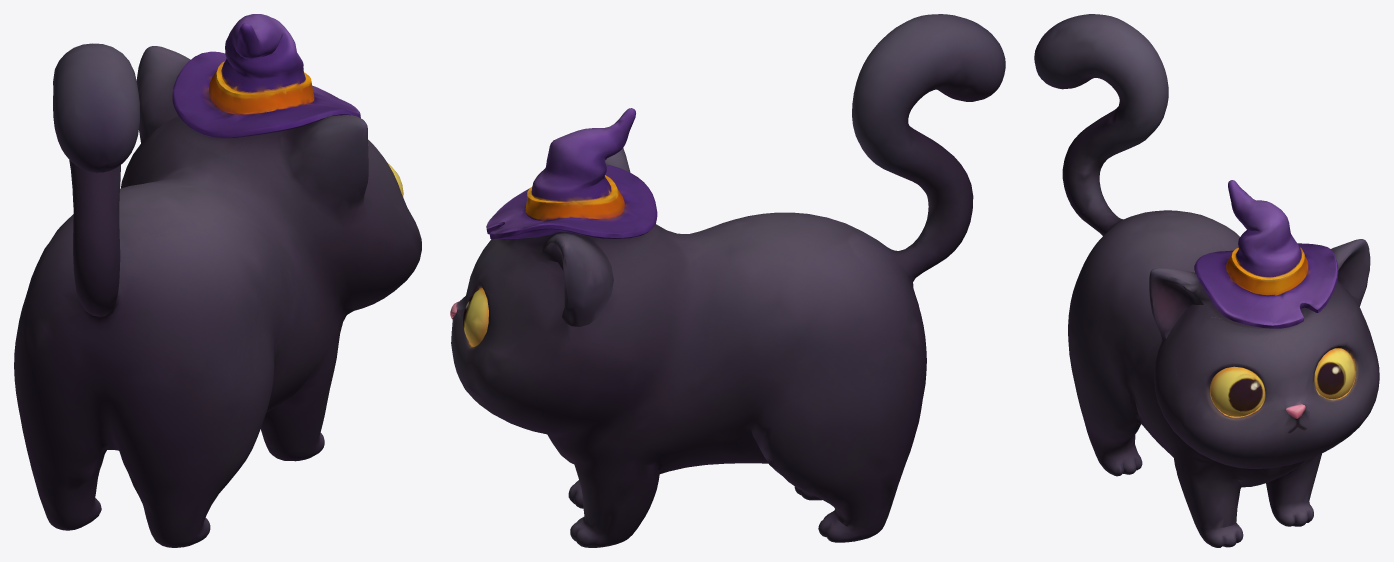
Rendered from E5_Mitten_LOD0.fbx.
3 views of the same model, side by side, from view 1: azimuth 30°, elevation 25°; view 2: azimuth 150°, elevation 25°; view 3: azimuth 270°, elevation 25° (orthographic). The views are drawn at different scales.
Visible parts, largest first — view 1: E5_Mitten_LOD0; view 2: E5_Mitten_LOD0; view 3: E5_Mitten_LOD0.
Boxes of the visible parts, x1,y1,x2,y2 form: E5_Mitten_LOD0: [14, 14, 421, 547]; E5_Mitten_LOD0: [450, 14, 1005, 547]; E5_Mitten_LOD0: [1034, 14, 1379, 547].
Bounding box in the file's own units: 0.116 × 0.13 × 0.0977.
1 material, 1 textured.
